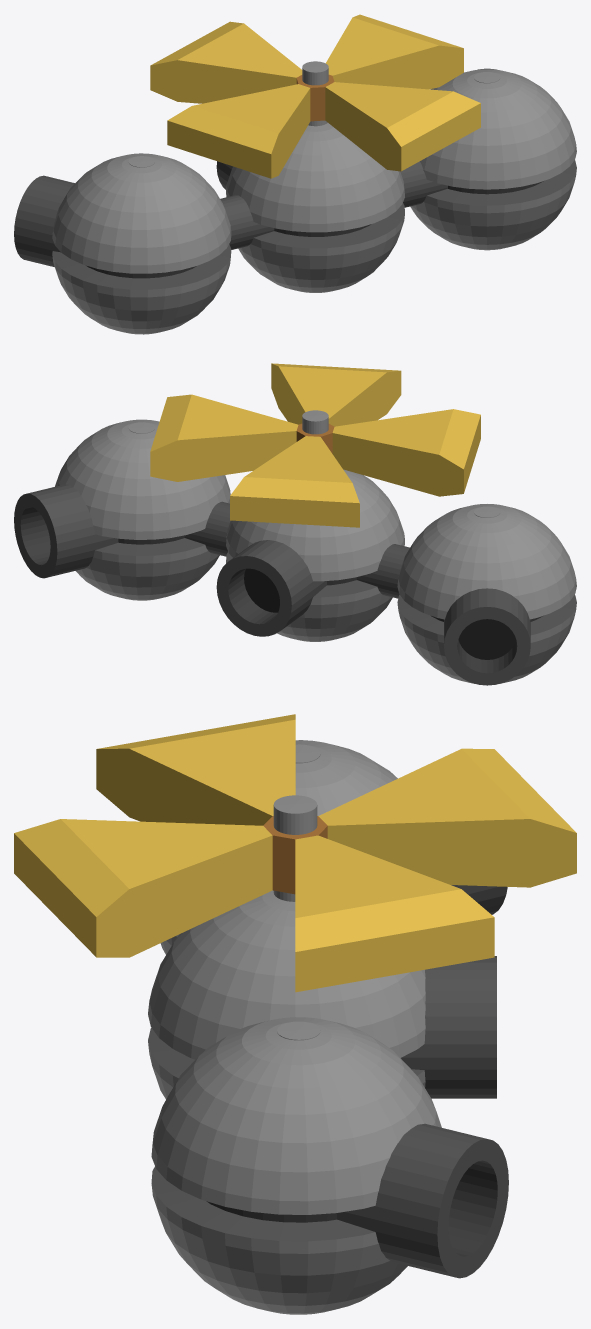
Rendered from enemyMedium.fbx.
3 views of the same model, one above another, from view 1: azimuth 30°, elevation 25°; view 2: azimuth 150°, elevation 25°; view 3: azimuth 270°, elevation 25° (orthographic). The views are drawn at different scales.
Parts seen in each view (by area): view 1: EnemySmall, Propeller; view 2: EnemySmall, Propeller; view 3: EnemySmall, Propeller.
Part boxes in pixels (x1,y1,x2,y2): EnemySmall: (14, 61, 576, 334); Propeller: (150, 14, 480, 178); EnemySmall: (14, 410, 576, 685); Propeller: (150, 363, 480, 527); EnemySmall: (148, 740, 508, 1314); Propeller: (14, 714, 576, 992).
Size of the model in its own units: 658 by 265 by 378.
